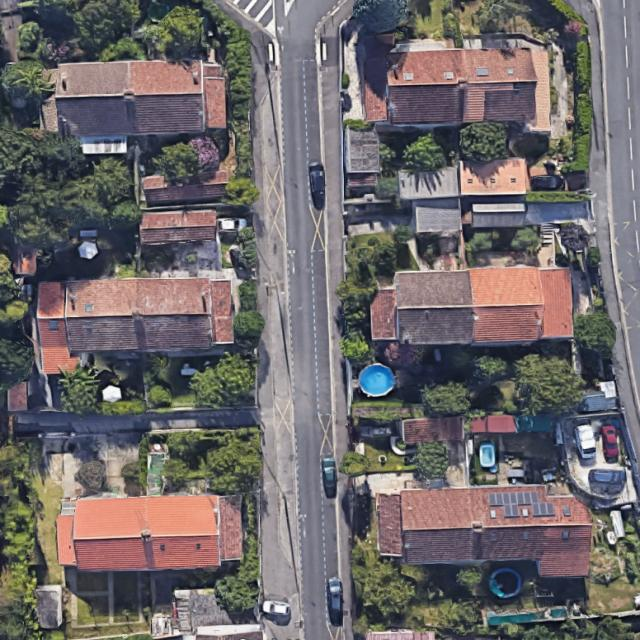maison: (32, 260, 239, 375), (357, 32, 556, 142), (377, 482, 592, 578), (41, 59, 227, 155), (368, 265, 573, 349), (56, 495, 242, 571)
